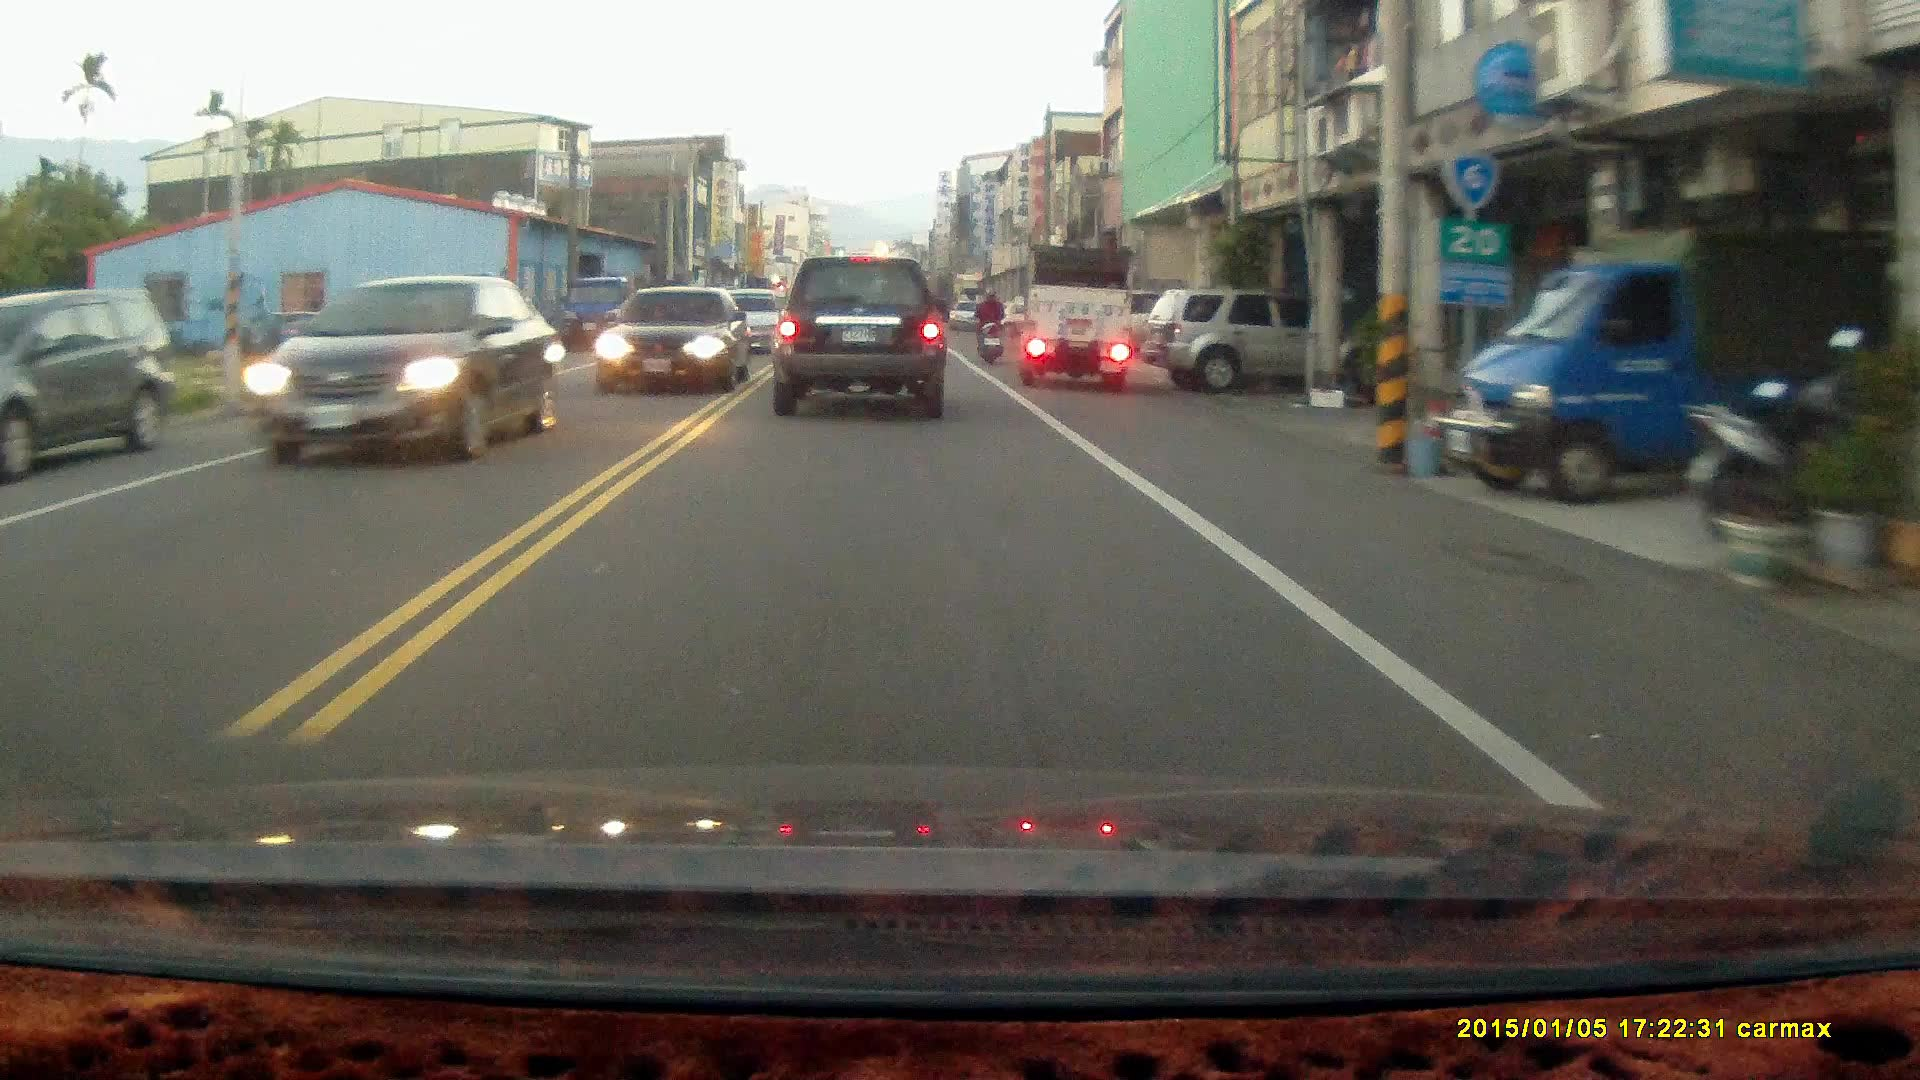rider: (969, 284, 1006, 368)
vehicle: (1452, 190, 1835, 512), (245, 273, 562, 477), (3, 290, 180, 483), (768, 262, 948, 429), (1142, 287, 1317, 396), (595, 285, 756, 395), (1024, 249, 1135, 392)
